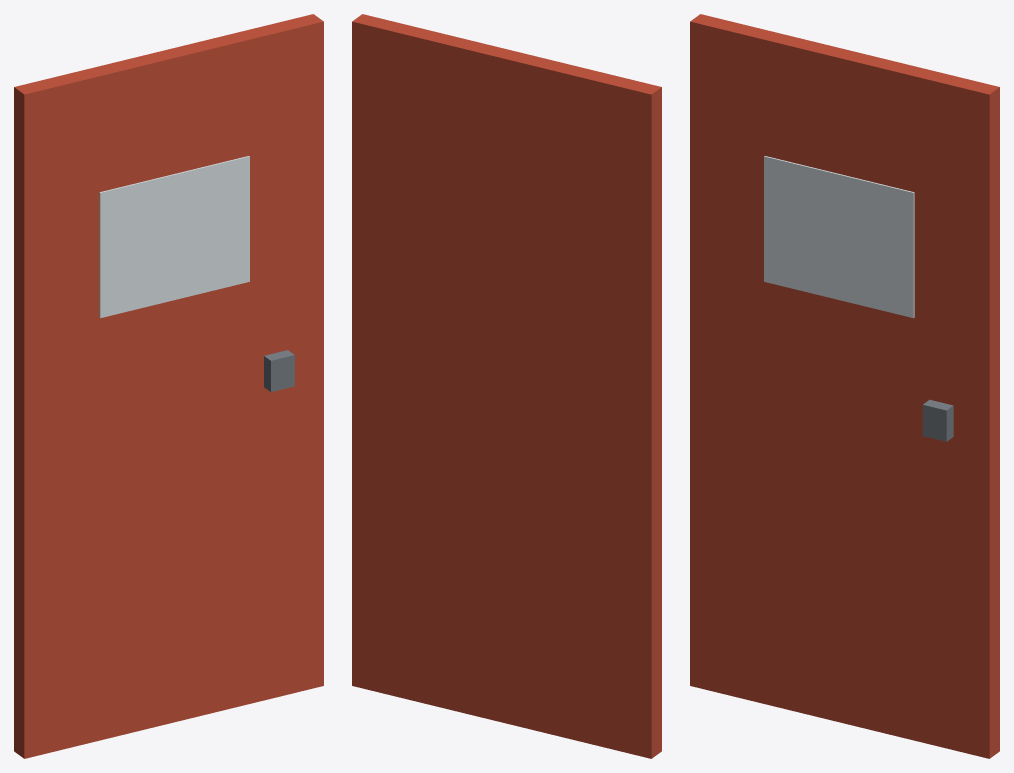
File: ToiletDoor.fbx
3 renders of one model, left to right at view 1: azimuth 30°, elevation 25°; view 2: azimuth 150°, elevation 25°; view 3: azimuth 330°, elevation 25°, orthographic.
Visible parts, largest first — view 1: ToiletDoor; view 2: ToiletDoor; view 3: ToiletDoor.
Boxes of the visible parts, x1=… form: ToiletDoor: x1=14, y1=14, x2=323, y2=758; ToiletDoor: x1=352, y1=14, x2=661, y2=758; ToiletDoor: x1=690, y1=14, x2=999, y2=758.
Size of the model in its own units: 1 by 2.12 by 0.1.
